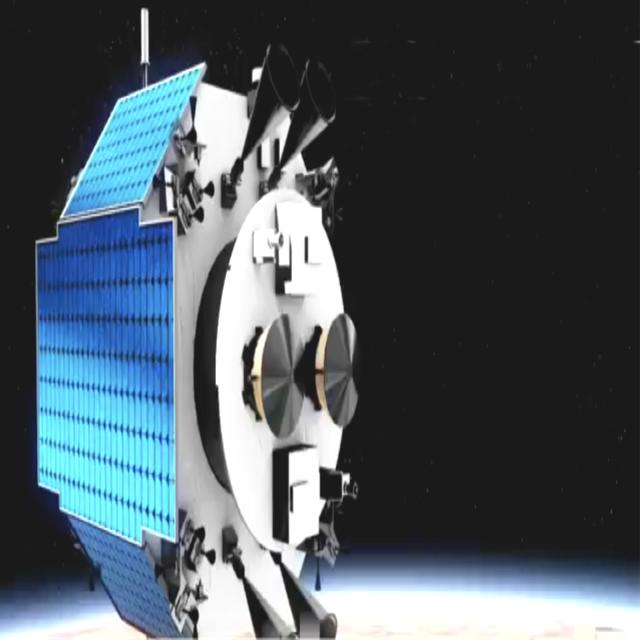medium_debris: (23, 0, 384, 640)
